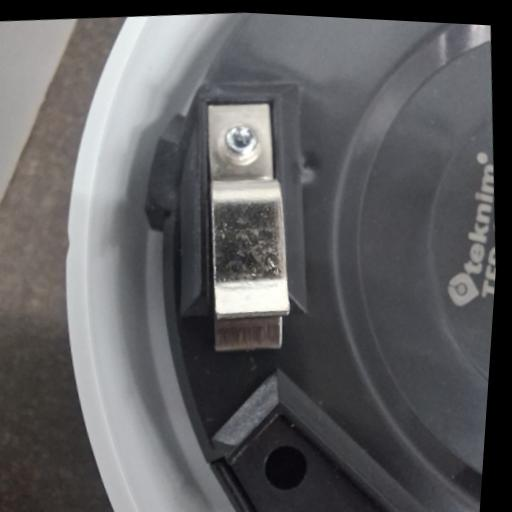yayli: (184, 93, 310, 361)
